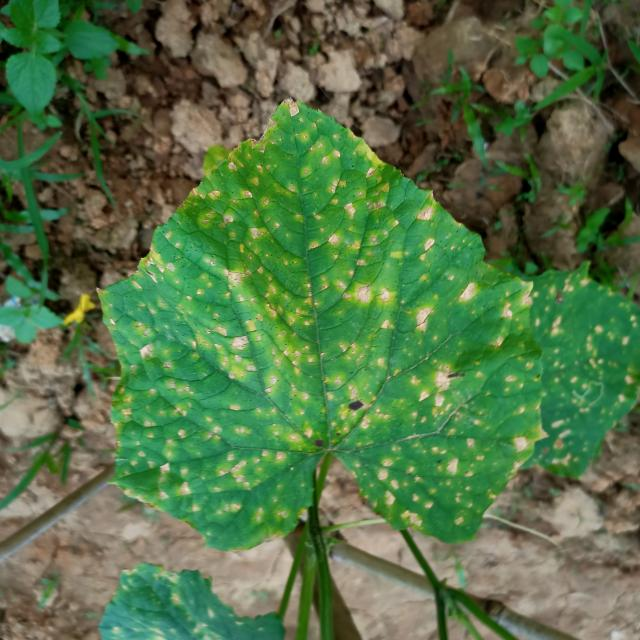disease_cucumber: (108, 118, 527, 537), (538, 282, 638, 468)
